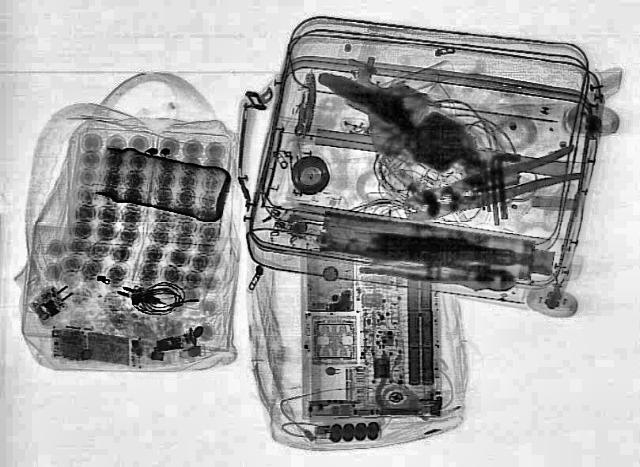Pliers: (395, 144, 593, 228)
